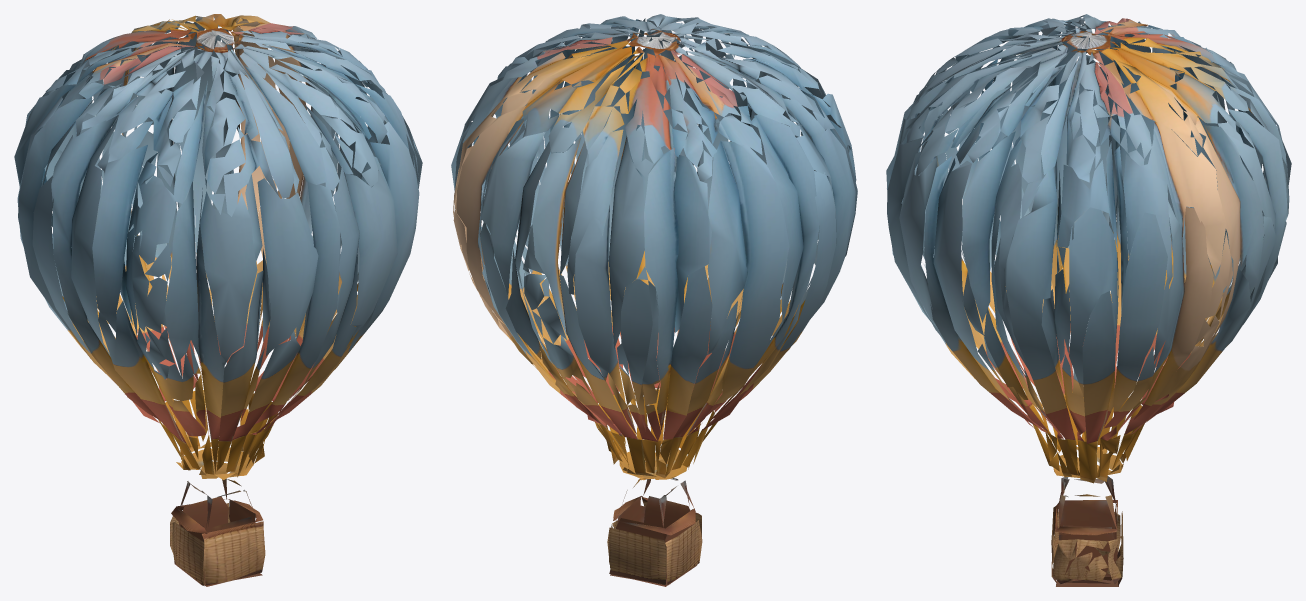
The model's file is balloon.glb.
3 renders of one model, left to right at view 1: azimuth 30°, elevation 25°; view 2: azimuth 150°, elevation 25°; view 3: azimuth 270°, elevation 25°, orthographic.
Parts seen in each view (by area): view 1: node_0; view 2: node_0; view 3: node_0.
Boxes of the visible parts, x1,y1,x2,y2 form: node_0: (14,14,422,586); node_0: (451,14,857,586); node_0: (886,14,1291,586).
Size of the model in its own units: 19.14 by 28.01 by 19.09.
1 material, 1 textured.
